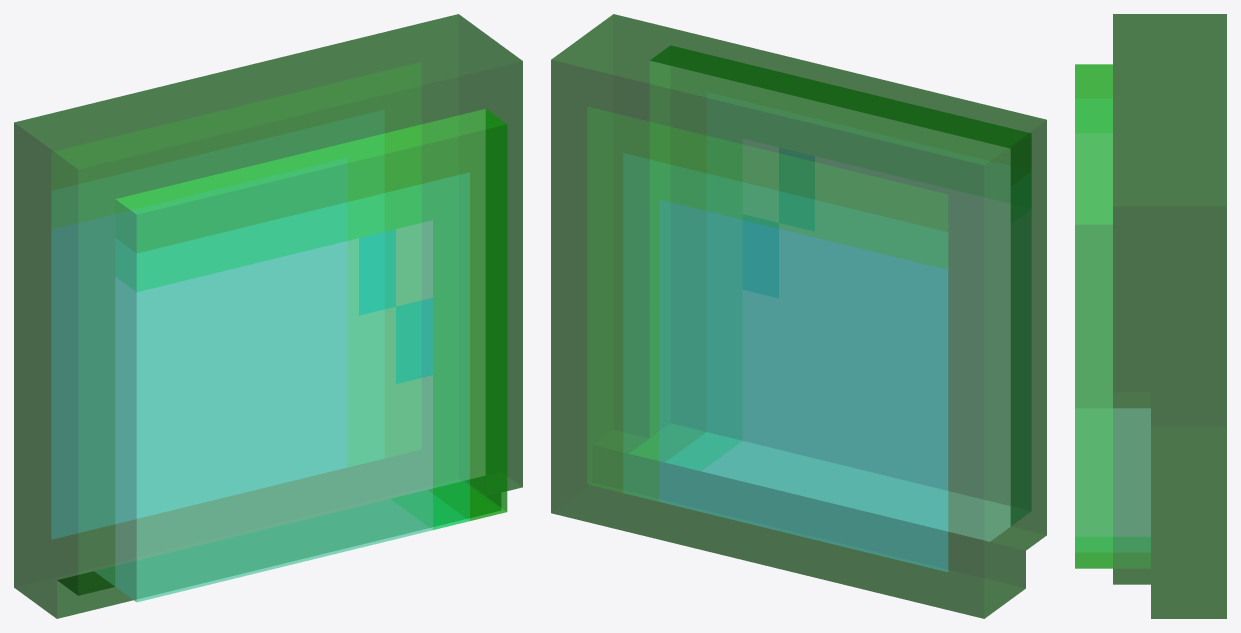
Rendered from screen_scratched.glb.
3 renders of one model, left to right at view 1: azimuth 30°, elevation 25°; view 2: azimuth 150°, elevation 25°; view 3: azimuth 270°, elevation 25°, orthographic. The views are drawn at different scales.
Visible parts, largest first — view 1: model_0; view 2: model_0; view 3: model_0.
Part boxes in pixels (left/top/right/bottom): model_0: left=14, top=14, right=522, bottom=618; model_0: left=551, top=14, right=1046, bottom=618; model_0: left=1075, top=14, right=1226, bottom=618.
Size of the model in its own units: 12 by 12 by 4.
